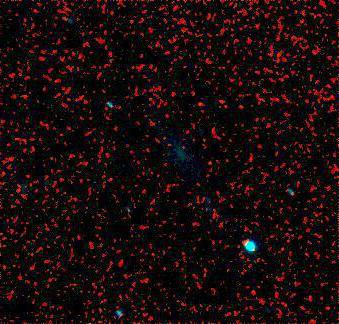star: (184, 89, 214, 119)
